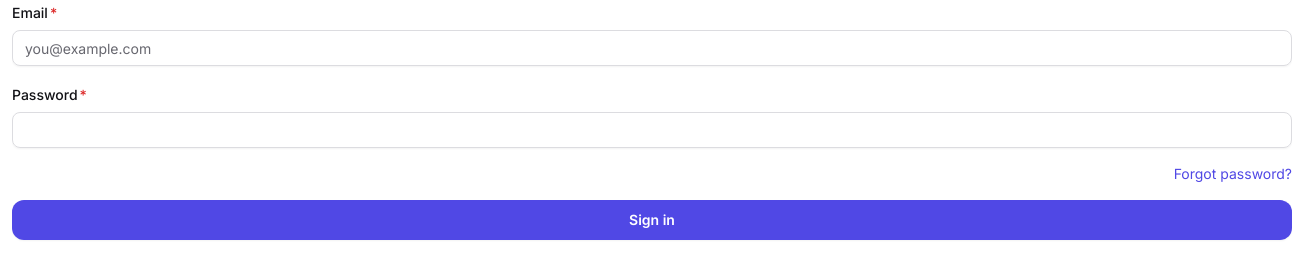
Test: LoginForm › validates the email format
In the field labelled "Email*": x=652, y=48 [12,30,1292,66], type "not-an-email"
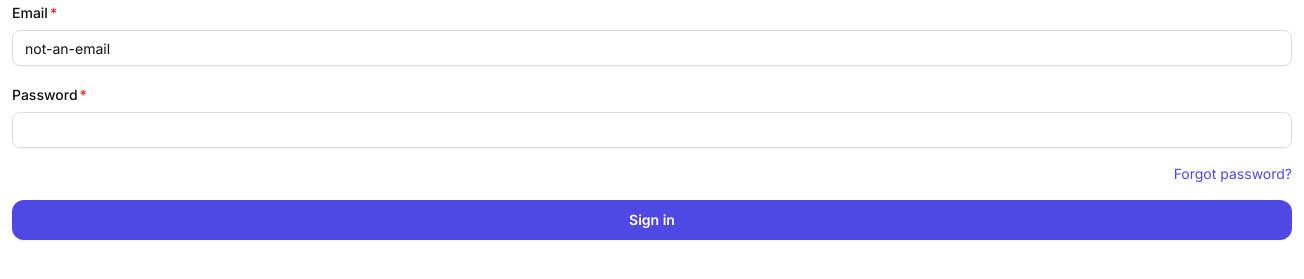
In the password field labelled "Password*": x=652, y=130 [12,112,1292,148], type "secret123"
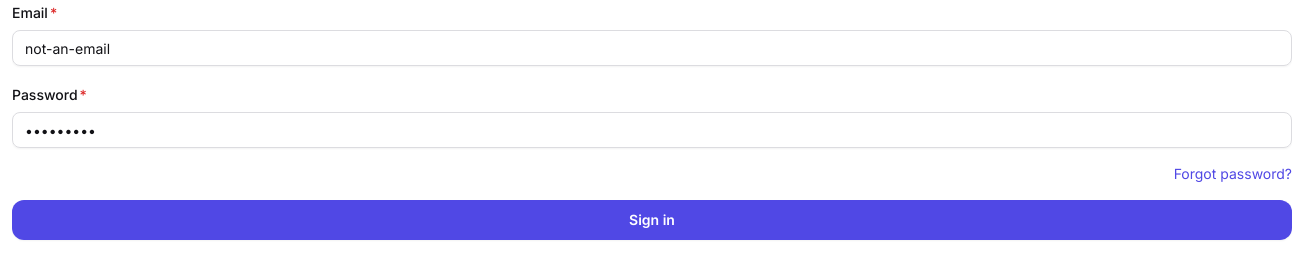
Click the button "Sign in": x=652, y=220 [12,200,1292,240]
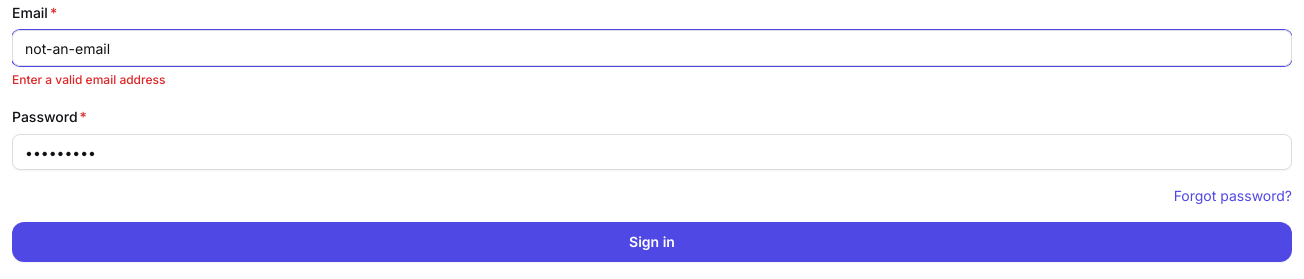
Now the text "Enter a valid email address" is shown, box [12,72,165,87]
